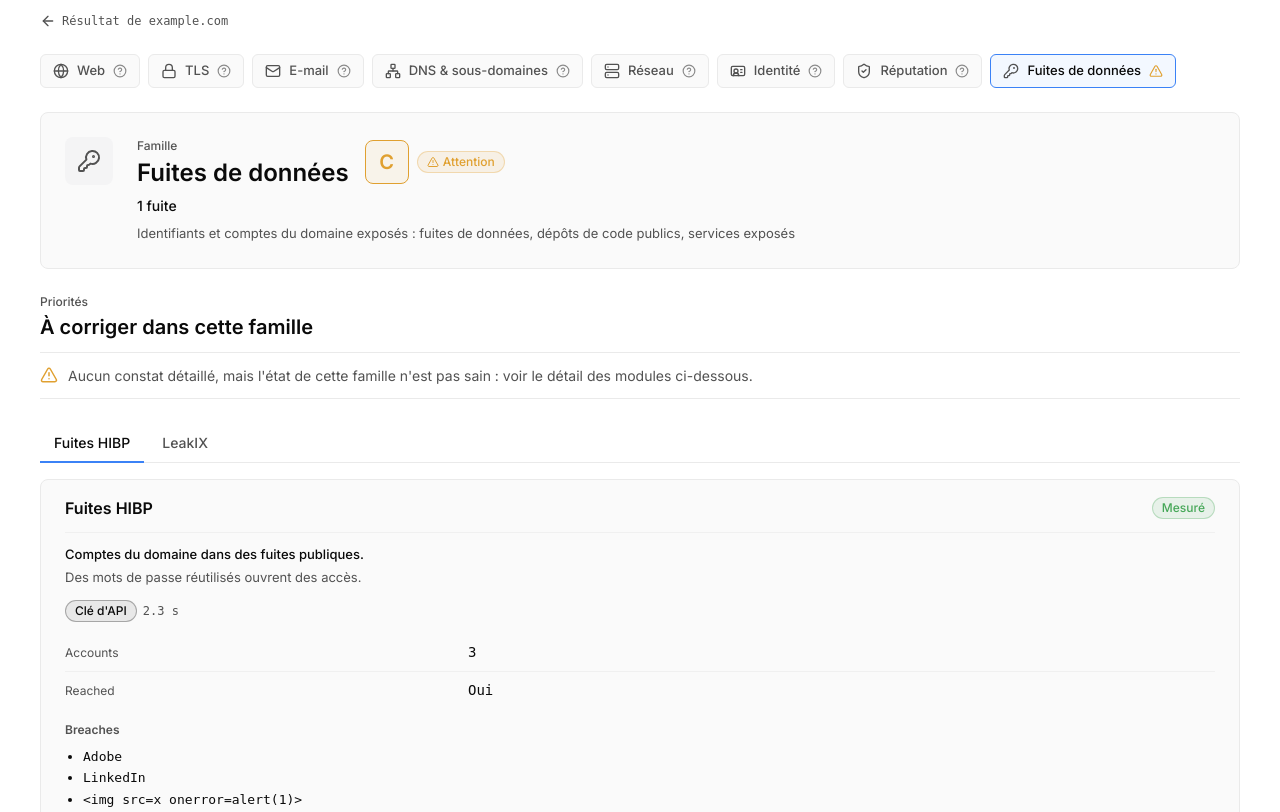
Test: module sans composant dédié › famille Fuites : onglets pilotés par le catalogue, titre, aide et données principales
Expected: the heading "Fuites de données" is shown, [137,158,349,187]
Expected: the text "Mesuré" is shown, [1152,497,1215,519]
# Module non lancé : statut honnête, jamais « rien trouvé », avec la raison.
Click the tab "LeakIX": (185, 443) [148,423,222,463]
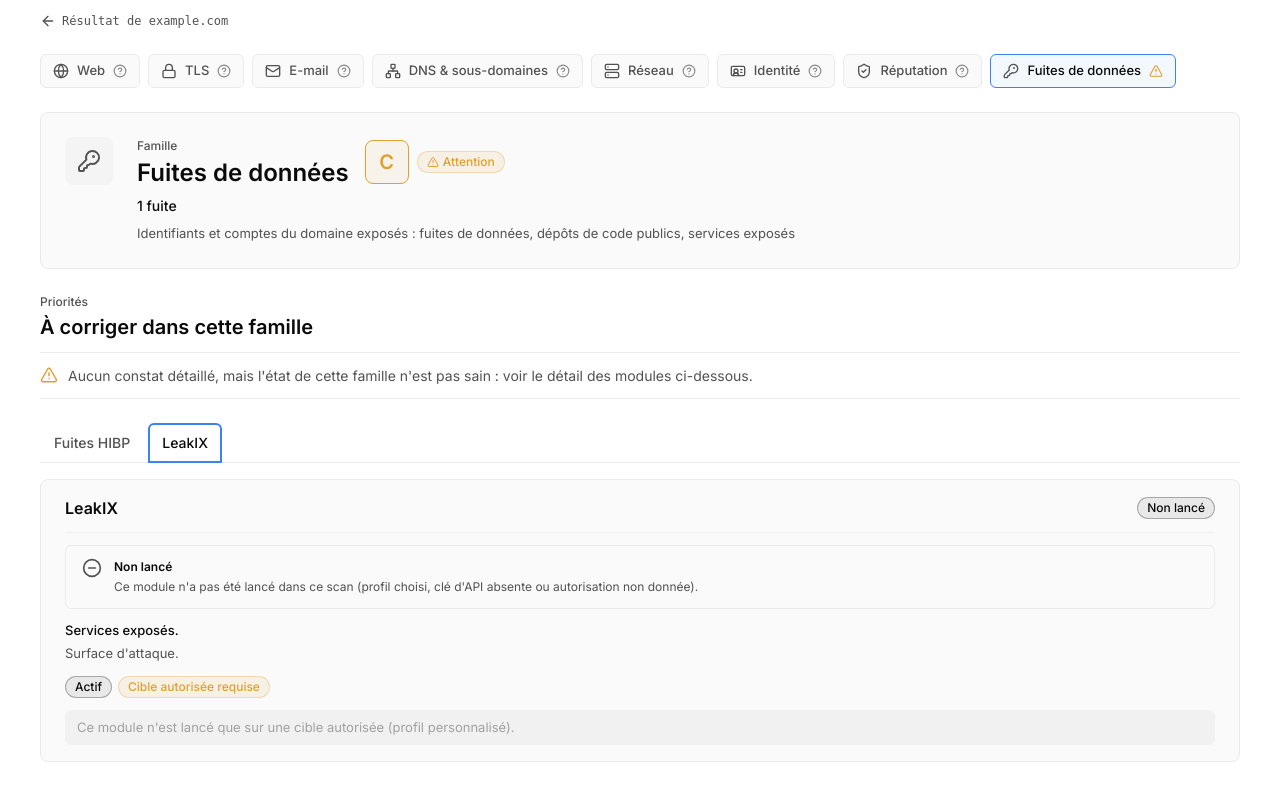
Expected: the 1st text "Non lancé" is shown, [1137,497,1215,519]
Expected: the text "n.est lancé que sur une cible autorisée" is shown, [77,719,514,735]
